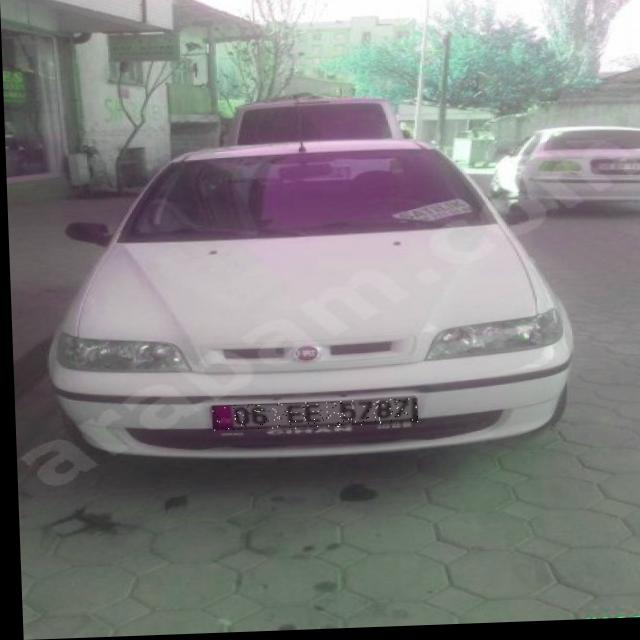license_plate: (209, 402, 415, 434)
